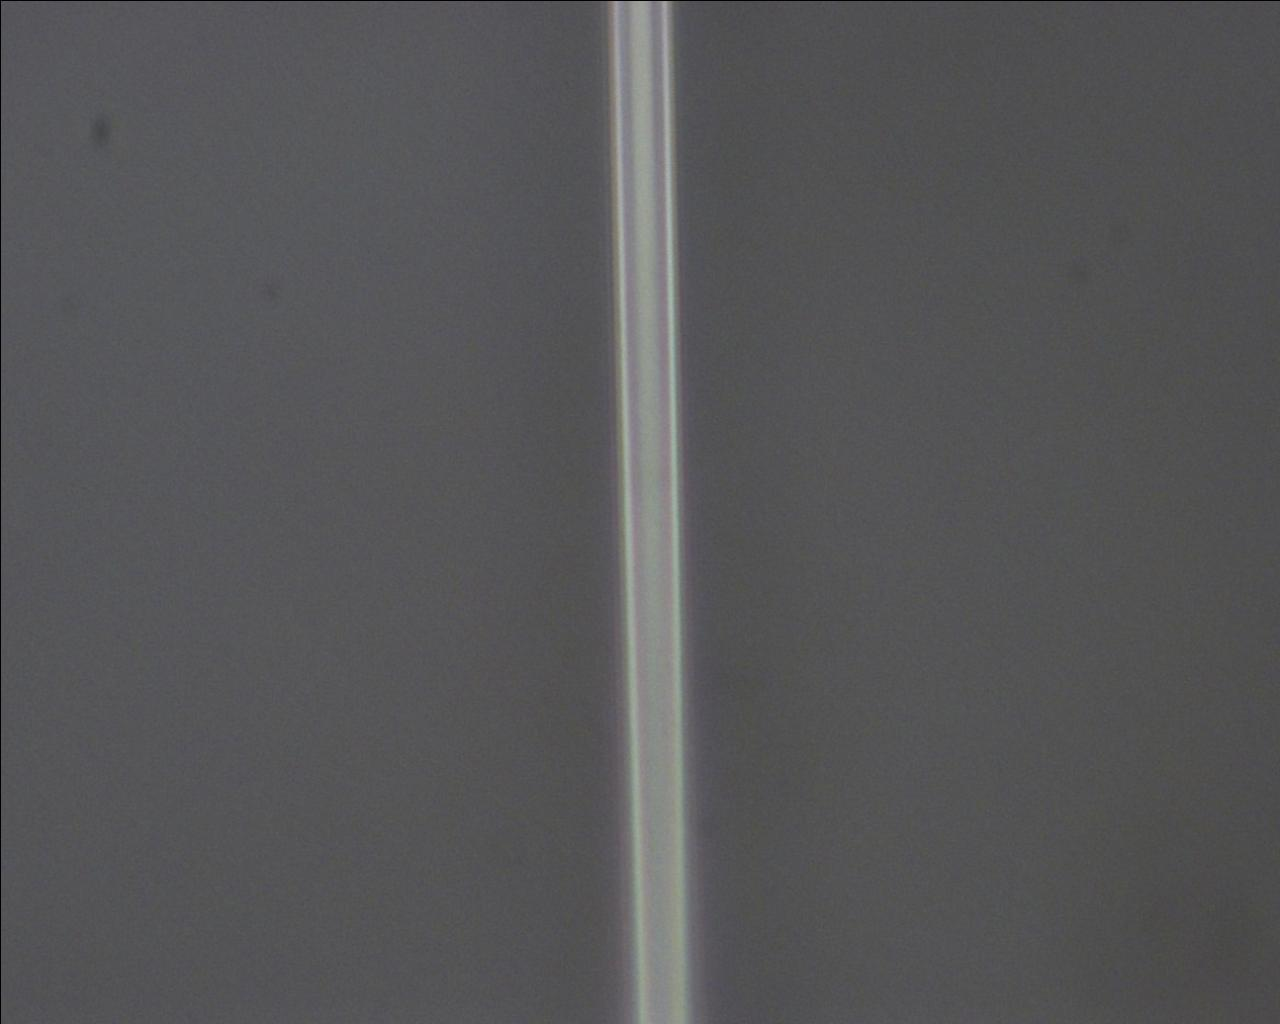fiber: (339, 0, 861, 1024)
